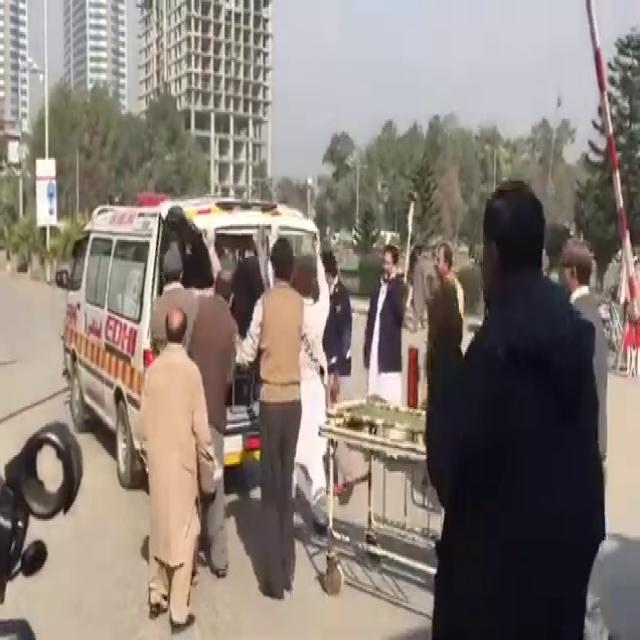ambulance: (45, 173, 332, 550)
